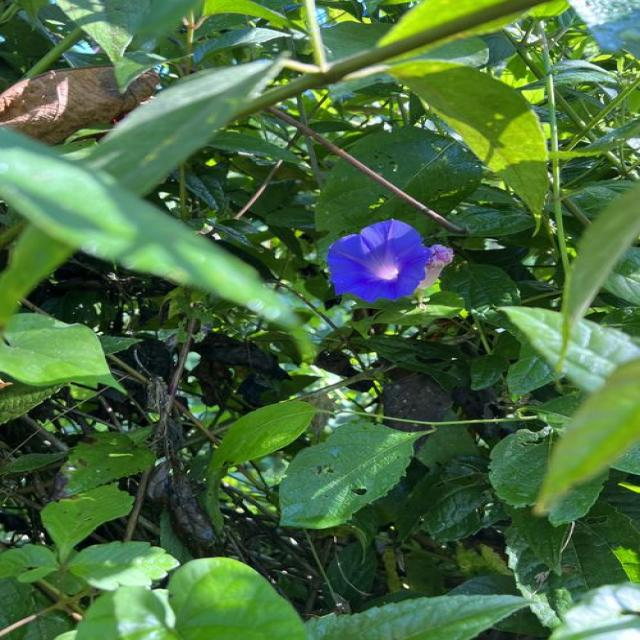ipomoea: (322, 217, 436, 307)
